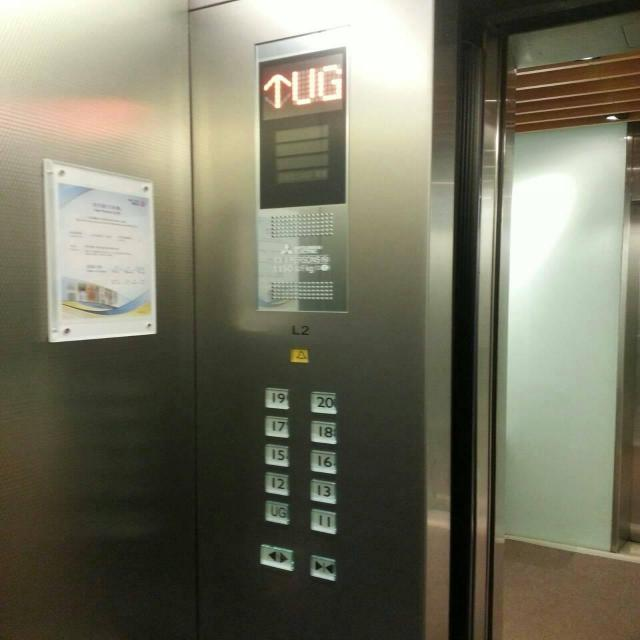11: (309, 508, 336, 534)
12: (264, 472, 287, 494)
13: (309, 479, 335, 503)
15: (264, 444, 289, 466)
16: (310, 450, 335, 473)
17: (265, 415, 288, 437)
18: (307, 420, 339, 444)
19: (263, 388, 289, 410)
20: (309, 390, 337, 414)
UG: (263, 501, 288, 523)
alarm: (287, 348, 310, 363)
close: (309, 555, 335, 580)
led: (258, 45, 347, 211)
open: (259, 544, 293, 571)
